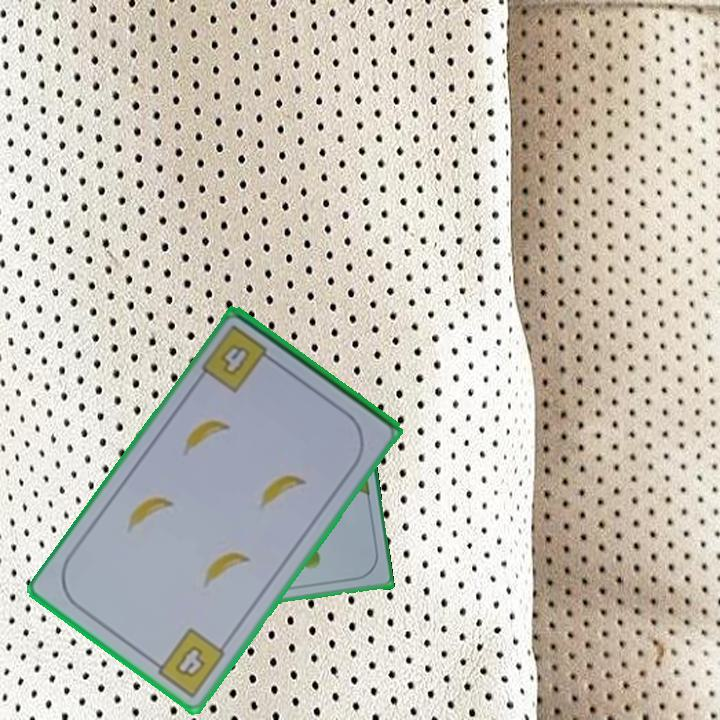4b: (147, 625, 229, 701), (197, 321, 280, 396)
